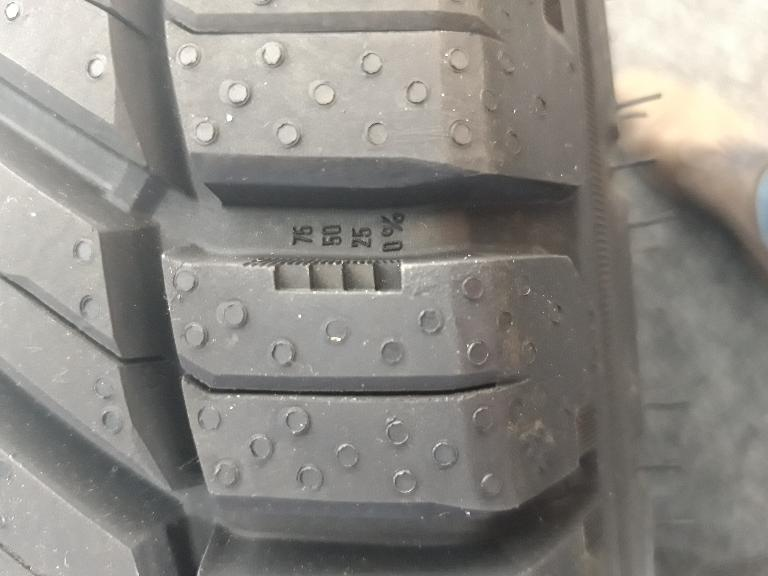temoin:100: (234, 245, 415, 306)
